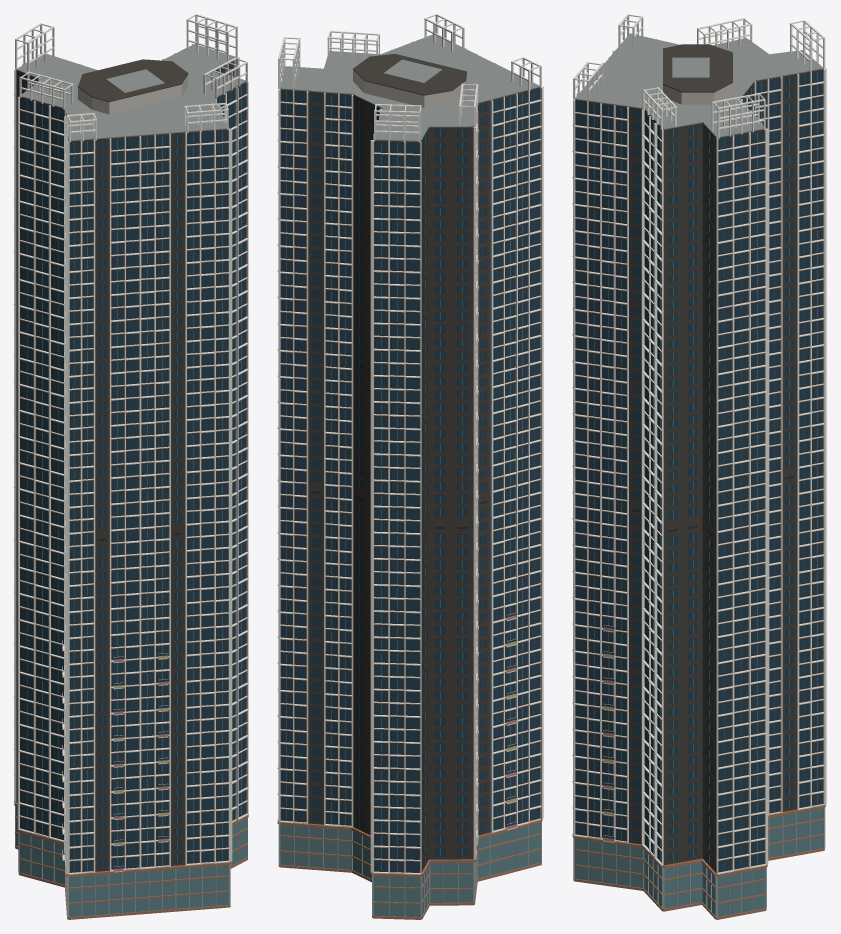
The model's file is bespoke-gratte-ciel-101.glb.
The picture shows the model from 3 angles, left to right: view 1: azimuth 30°, elevation 25°; view 2: azimuth 150°, elevation 25°; view 3: azimuth 270°, elevation 25°; orthographic projection.
Parts seen in each view (by area): view 1: 101_recessed_windows_and_mullions004, 101_individual_stepped_plan, 101_projecting_woven_white_frames, 101_recessed_windows_and_mullions004_1, 101_open_lattice_crowns_and_roof_core004_2, 101_simplified_retail_and_lobby004_2, 101_recessed_windows_and_mullions004_2, 101_open_lattice_crowns_and_roof_core004_1, 101_simplified_retail_and_lobby004_1, 101_open_lattice_crowns_and_roof_core004, 101_open_lattice_crowns_and_roof_core004_3, 101_simplified_retail_and_lobby004; view 2: 101_individual_stepped_plan, 101_recessed_windows_and_mullions004, 101_projecting_woven_white_frames, 101_recessed_windows_and_mullions004_1, 101_open_lattice_crowns_and_roof_core004_2, 101_simplified_retail_and_lobby004_2, 101_recessed_windows_and_mullions004_2, 101_open_lattice_crowns_and_roof_core004_1, 101_simplified_retail_and_lobby004_1, 101_open_lattice_crowns_and_roof_core004, 101_simplified_retail_and_lobby004, 101_open_lattice_crowns_and_roof_core004_3; view 3: 101_recessed_windows_and_mullions004, 101_individual_stepped_plan, 101_projecting_woven_white_frames, 101_recessed_windows_and_mullions004_1, 101_open_lattice_crowns_and_roof_core004_2, 101_simplified_retail_and_lobby004_2, 101_recessed_windows_and_mullions004_2, 101_open_lattice_crowns_and_roof_core004_1, 101_simplified_retail_and_lobby004_1, 101_open_lattice_crowns_and_roof_core004, 101_simplified_retail_and_lobby004, 101_open_lattice_crowns_and_roof_core004_3.
Part boxes in pixels (<box>): 101_recessed_windows_and_mullions004: <box>22,64,245,871</box>; 101_individual_stepped_plan: <box>16,59,246,872</box>; 101_projecting_woven_white_frames: <box>14,44,248,874</box>; 101_recessed_windows_and_mullions004_1: <box>21,64,245,872</box>; 101_open_lattice_crowns_and_roof_core004_2: <box>16,44,245,141</box>; 101_simplified_retail_and_lobby004_2: <box>16,806,246,917</box>; 101_recessed_windows_and_mullions004_2: <box>27,66,241,871</box>; 101_open_lattice_crowns_and_roof_core004_1: <box>15,14,247,142</box>; 101_simplified_retail_and_lobby004_1: <box>14,802,248,919</box>; 101_open_lattice_crowns_and_roof_core004: <box>78,59,188,102</box>; 101_open_lattice_crowns_and_roof_core004_3: <box>78,74,188,114</box>; 101_simplified_retail_and_lobby004: <box>15,806,247,917</box>; 101_individual_stepped_plan: <box>280,87,540,872</box>; 101_recessed_windows_and_mullions004: <box>282,89,539,871</box>; 101_projecting_woven_white_frames: <box>277,41,543,874</box>; 101_recessed_windows_and_mullions004_1: <box>281,89,539,872</box>; 101_open_lattice_crowns_and_roof_core004_2: <box>280,34,540,141</box>; 101_simplified_retail_and_lobby004_2: <box>280,823,540,917</box>; 101_recessed_windows_and_mullions004_2: <box>286,91,534,871</box>; 101_open_lattice_crowns_and_roof_core004_1: <box>278,14,541,142</box>; 101_simplified_retail_and_lobby004_1: <box>277,820,542,919</box>; 101_open_lattice_crowns_and_roof_core004: <box>353,53,466,95</box>; 101_simplified_retail_and_lobby004: <box>278,822,541,917</box>; 101_open_lattice_crowns_and_roof_core004_3: <box>353,69,466,107</box>; 101_recessed_windows_and_mullions004: <box>576,71,821,871</box>; 101_individual_stepped_plan: <box>575,69,823,910</box>; 101_projecting_woven_white_frames: <box>572,33,826,874</box>; 101_recessed_windows_and_mullions004_1: <box>576,71,822,871</box>; 101_open_lattice_crowns_and_roof_core004_2: <box>574,33,823,137</box>; 101_simplified_retail_and_lobby004_2: <box>575,808,823,916</box>; 101_recessed_windows_and_mullions004_2: <box>594,72,817,869</box>; 101_open_lattice_crowns_and_roof_core004_1: <box>573,14,825,138</box>; 101_simplified_retail_and_lobby004_1: <box>572,805,825,919</box>; 101_open_lattice_crowns_and_roof_core004: <box>663,44,732,92</box>; 101_simplified_retail_and_lobby004: <box>573,807,825,917</box>; 101_open_lattice_crowns_and_roof_core004_3: <box>663,83,732,104</box>.
Size of the model in its own units: 53.94 by 192 by 54.53.
